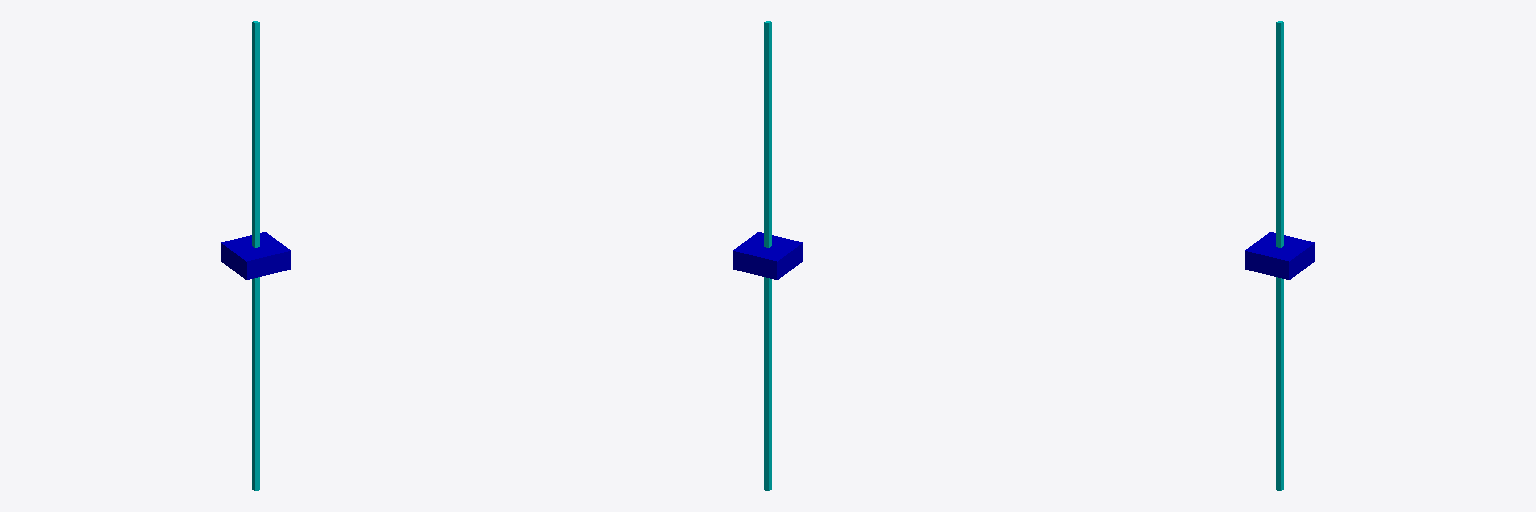
robot.urdf — cart:
<?xml version="1.0" ?>
<robot name="cart">
  <link name="world"/>

  <link name="slideBar">
    <visual>
      <geometry>
        <box size="0.05 0.05 5"/>
      </geometry>
      <origin xyz="0 0 0"/>
      <material name="green">
        <color rgba="0 0.8 .8 1"/>
      </material>
    </visual>
    <inertial>
      <mass value="100"/>
      <inertia ixx="1.0" ixy="0.0" ixz="0.0" iyy="1.0" iyz="0.0" izz="1.0"/>
    </inertial>
  </link>

  <link name="cart">
    <visual>
      <geometry>
        <box size="0.5 0.5 0.2"/>
      </geometry>
      <origin xyz="0 0 0"/>
      <material name="blue">
        <color rgba="0 0 .8 1"/>
      </material>
    </visual>
    <inertial>
      <mass value="1"/>
      <inertia ixx="1.0" ixy="0.0" ixz="0.0" iyy="1.0" iyz="0.0" izz="1.0"/>
    </inertial>
  </link>

  <joint name="world_to_base" type="fixed">
    <origin rpy="0 0 0" xyz="0 0 2.5"/>
    <parent link="world"/>
    <child link="slideBar"/>
  </joint>

  <joint name="slider_to_cart" type="prismatic">
    <axis xyz="0 0 1"/>
    <origin xyz="0.0 0.0 0.0"/>
    <parent link="slideBar"/>
    <child link="cart"/>
    <limit effort="1000.0" lower="-2.5" upper="2.5" velocity="30"/>
    <dynamics damping="0.0" friction="0.0"/>
  </joint>

  <ros2_control name="MujocoSystem" type="system">
    <hardware>
      <plugin>mujoco_ros2_control/MujocoSystem</plugin>
    </hardware>
    <joint name="slider_to_cart">
      <param name="position_kp">100</param>
      <param name="position_ki">1</param>
      <param name="position_kd">10</param>
      <param name="position_i_max">10000</param>
      <command_interface name="position_pid" />
      <state_interface name="position" />
      <state_interface name="velocity"/>
      <state_interface name="effort"/>
    </joint>
  </ros2_control>
</robot>

--- Render facts (derived) ---
3 views of the same robot in one strip: view 1: azimuth 30°, elevation 25°; view 2: azimuth 150°, elevation 25°; view 3: azimuth 330°, elevation 25° (orthographic).
Model cart with 3 links and 2 joints (1 prismatic, 1 fixed), rooted at world, posed every joint at zero.
Links seen in each view (by area): view 1: slideBar, cart; view 2: slideBar, cart; view 3: slideBar, cart.
Link boxes in pixels (x1,y1,x2,y2): slideBar: (252,21,259,490); cart: (221,232,290,279); slideBar: (764,21,771,490); cart: (733,232,802,279); slideBar: (1276,21,1283,490); cart: (1245,232,1314,279).
Bounding box of the posed robot: 0.5 × 0.5 × 5 m (x, y, z).
Geometry: primitives only (box / cylinder / sphere), no mesh files.
